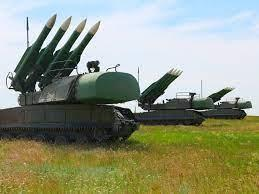rszo: (1, 13, 145, 149), (137, 66, 219, 131), (203, 82, 256, 124)
